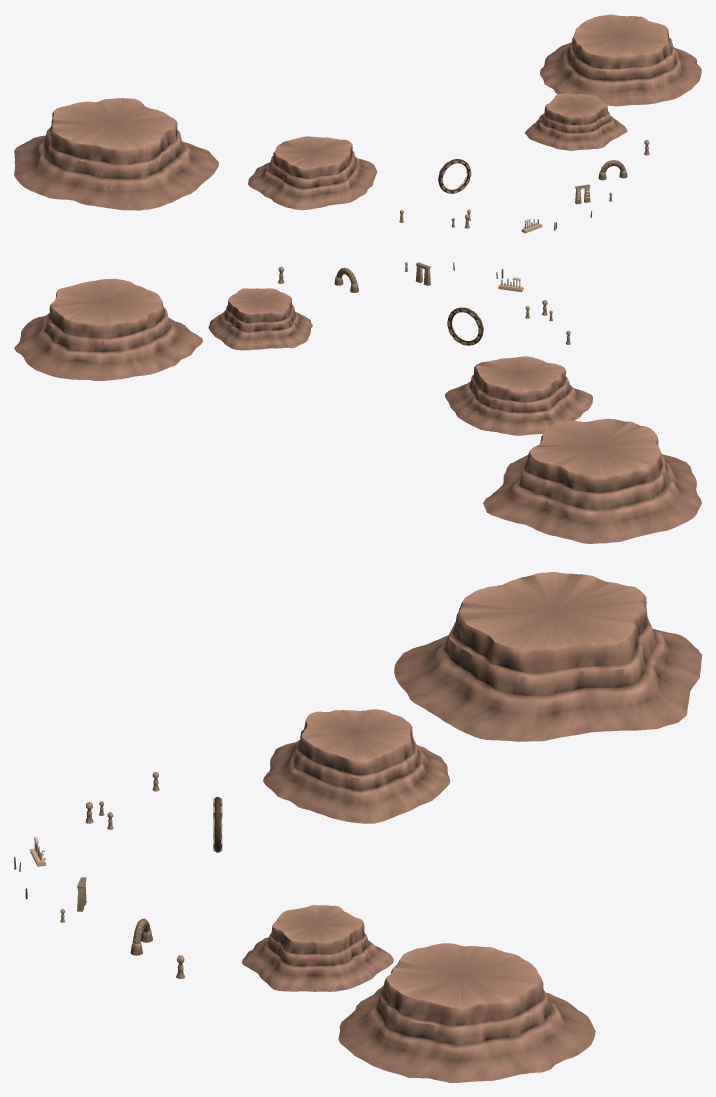
Rendered from desert.glb.
The picture shows the model from 3 angles, top to bottom: view 1: azimuth 30°, elevation 25°; view 2: azimuth 150°, elevation 25°; view 3: azimuth 270°, elevation 25°; orthographic projection. The views are drawn at different scales.
Parts seen in each view (by area): view 1: mesa_d, mesa_c, mesa_a, mesa_b, ring_gate; view 2: mesa_d, mesa_c, mesa_a, mesa_b, ring_gate; view 3: mesa_d, mesa_c, mesa_a, mesa_b.
Part boxes in pixels (x1=…): mesa_d: x1=14, y1=98, x2=218, y2=210; mesa_c: x1=540, y1=14, x2=701, y2=106; mesa_a: x1=248, y1=136, x2=377, y2=210; mesa_b: x1=525, y1=93, x2=627, y2=150; ring_gate: x1=438, y1=159, x2=471, y2=193; mesa_d: x1=483, y1=418, x2=701, y2=543; mesa_c: x1=14, y1=278, x2=202, y2=380; mesa_a: x1=445, y1=356, x2=592, y2=435; mesa_b: x1=208, y1=288, x2=312, y2=350; ring_gate: x1=447, y1=307, x2=483, y2=345; mesa_d: x1=394, y1=572, x2=701, y2=741; mesa_c: x1=338, y1=943, x2=595, y2=1082; mesa_a: x1=263, y1=709, x2=450, y2=823; mesa_b: x1=241, y1=905, x2=393, y2=991.
Bounding box in the file's own units: 1171 × 79.9 × 724.
4 materials, 4 textured.
